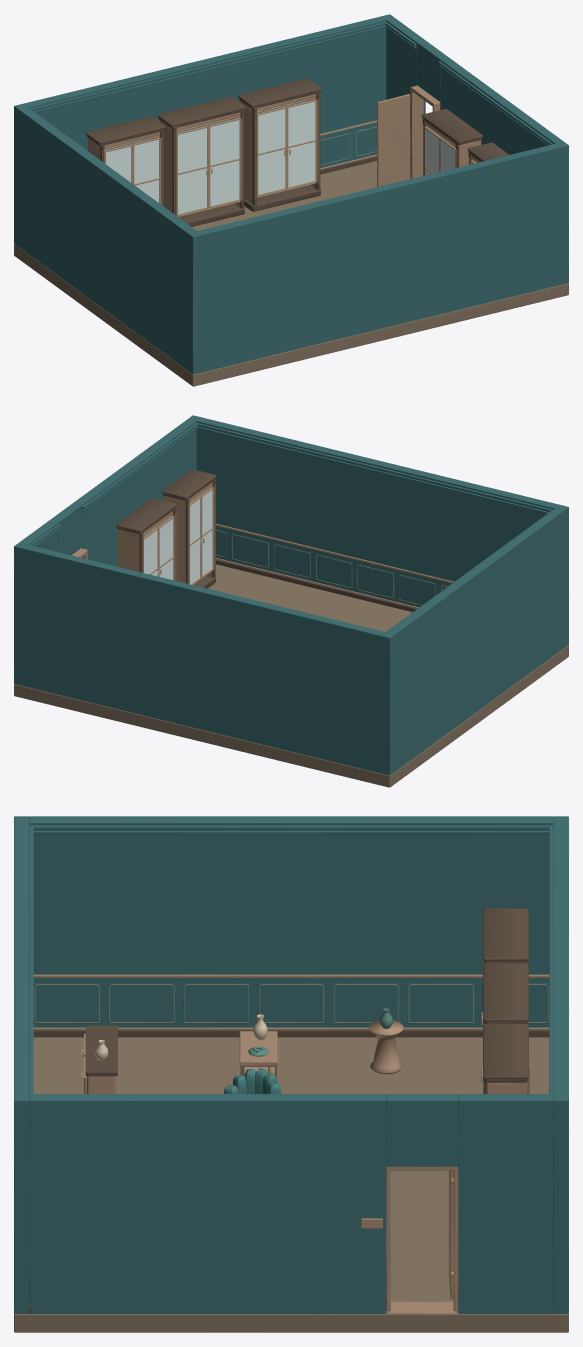
The model's file is HotelH02_FinalPolish.fbx.
The picture shows the model from 3 angles, top to bottom: view 1: azimuth 30°, elevation 25°; view 2: azimuth 150°, elevation 25°; view 3: azimuth 270°, elevation 25°; orthographic projection. The views are drawn at different scales.
Visible parts, largest first — view 1: Continuous finished wall.001, Continuous finished wall.002, Continuous finished wall, Uniform foundation, Load-bearing doorway return.001, Solid paneled walnut leaf, Load-bearing doorway return, Continuous stepped wall trim.004, Built-up cabinet crown.005, Load-bearing doorway return.002, H02 transparent cabinet pane.006, Continuous stepped wall trim.003 (+23 smaller); view 2: Continuous finished wall, Continuous finished wall.001, Continuous finished wall.002, Uniform foundation, Load-bearing doorway return.001, Continuous stepped wall trim.019, Continuous stepped wall trim.018, Load-bearing doorway return.002, Continuous stepped wall trim.015, Built-up cabinet crown.011, Inset finished panel field.016, Inset finished panel field.017 (+11 smaller); view 3: Continuous finished wall.002, Load-bearing doorway return.001, Uniform foundation, Load-bearing doorway return, Continuous finished wall, Continuous finished wall.001, Load-bearing doorway return.002, Continuous stepped wall trim.024, Continuous stepped wall trim.020, Inset finished panel field.024, Inset finished panel field.025, Inset finished panel field.029 (+24 smaller).
Boxes of the visible parts, left/top/right/bottom form: Continuous finished wall.001: left=188, top=141, right=568, bottom=374; Continuous finished wall.002: left=19, top=107, right=195, bottom=369; Continuous finished wall: left=14, top=14, right=394, bottom=246; Uniform foundation: left=14, top=161, right=568, bottom=386; Load-bearing doorway return.001: left=440, top=57, right=563, bottom=154; Solid paneled walnut leaf: left=377, top=94, right=410, bottom=187; Load-bearing doorway return: left=386, top=18, right=425, bottom=169; Continuous stepped wall trim.004: left=29, top=22, right=385, bottom=111; Built-up cabinet crown.005: left=157, top=96, right=246, bottom=126; Load-bearing doorway return.002: left=417, top=40, right=448, bottom=101; H02 transparent cabinet pane.006: left=210, top=160, right=239, bottom=206; Continuous stepped wall trim.003: left=34, top=25, right=385, bottom=113; Continuous finished wall: left=14, top=542, right=394, bottom=775; Continuous finished wall.001: left=188, top=415, right=568, bottom=647; Continuous finished wall.002: left=387, top=508, right=563, bottom=771; Uniform foundation: left=14, top=564, right=568, bottom=787; Load-bearing doorway return.001: left=73, top=419, right=196, bottom=566; Continuous stepped wall trim.019: left=196, top=423, right=553, bottom=512; Continuous stepped wall trim.018: left=197, top=426, right=548, bottom=514; Load-bearing doorway return.002: left=50, top=503, right=81, bottom=555; Continuous stepped wall trim.015: left=216, top=559, right=563, bottom=648; Built-up cabinet crown.011: left=116, top=498, right=177, bottom=532; Inset finished panel field.016: left=232, top=533, right=269, bottom=568; Inset finished panel field.017: left=273, top=543, right=310, bottom=578; Continuous finished wall.002: left=29, top=816, right=553, bottom=1027; Load-bearing doorway return.001: left=29, top=1094, right=386, bottom=1313; Uniform foundation: left=14, top=1037, right=568, bottom=1332; Load-bearing doorway return: left=458, top=1094, right=553, bottom=1313; Continuous finished wall: left=553, top=816, right=568, bottom=1313; Continuous finished wall.001: left=14, top=816, right=29, bottom=1313; Load-bearing doorway return.002: left=386, top=1094, right=458, bottom=1166; Continuous stepped wall trim.024: left=30, top=825, right=553, bottom=830; Continuous stepped wall trim.020: left=33, top=1030, right=549, bottom=1037; Inset finished panel field.024: left=33, top=983, right=100, bottom=1023; Inset finished panel field.025: left=108, top=983, right=175, bottom=1023; Inset finished panel field.029: left=407, top=983, right=474, bottom=1023.
Bounding box in the file's own units: 10.31 × 3.92 × 8.48.
